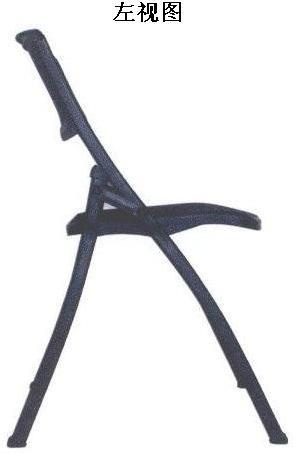obstacle: (7, 29, 287, 447)
